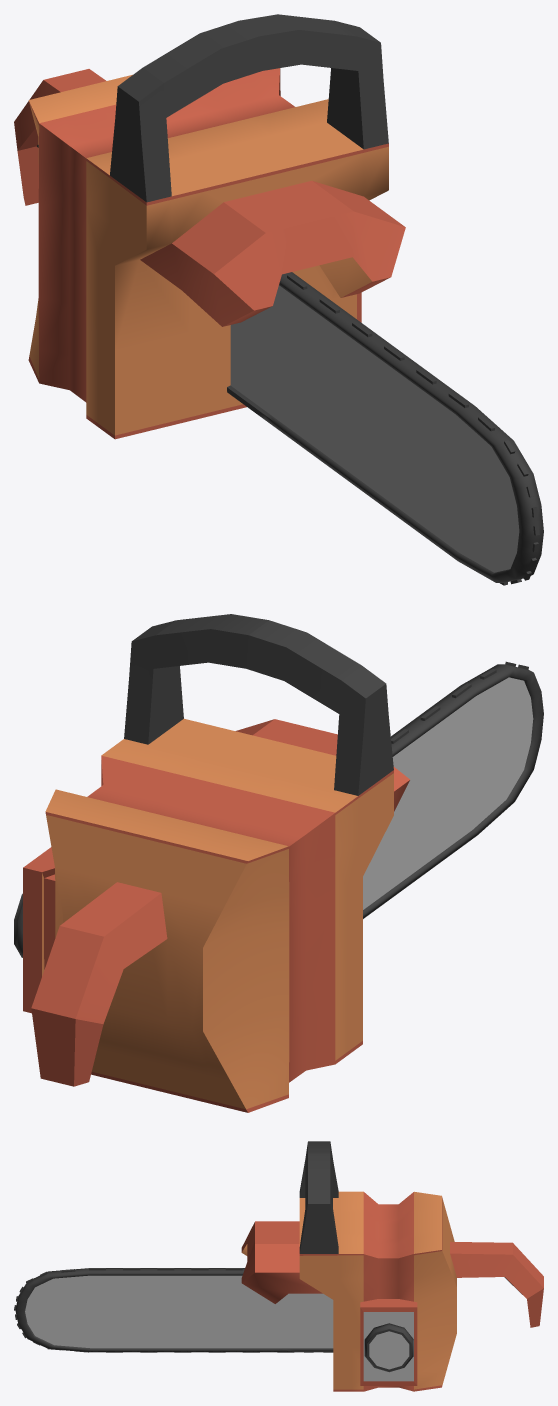
File: chainsaw.fbx
3 views of the same model, one above another, from view 1: azimuth 30°, elevation 25°; view 2: azimuth 150°, elevation 25°; view 3: azimuth 270°, elevation 25° (orthographic). The views are drawn at different scales.
Visible parts, largest first — view 1: chainsaw; view 2: chainsaw; view 3: chainsaw.
Part boxes in pixels (left/top/right/bottom): chainsaw: left=14, top=14, right=543, bottom=585; chainsaw: left=14, top=614, right=543, bottom=1112; chainsaw: left=14, top=1141, right=543, bottom=1391.
Size of the model in its own units: 0.7347 by 0.9569 by 2.22.
